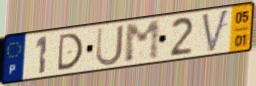1: (35, 34, 49, 75)
2: (169, 15, 196, 59)
D: (56, 31, 85, 73)
M: (124, 18, 161, 65)
U: (95, 23, 126, 68)
V: (200, 7, 231, 55)
